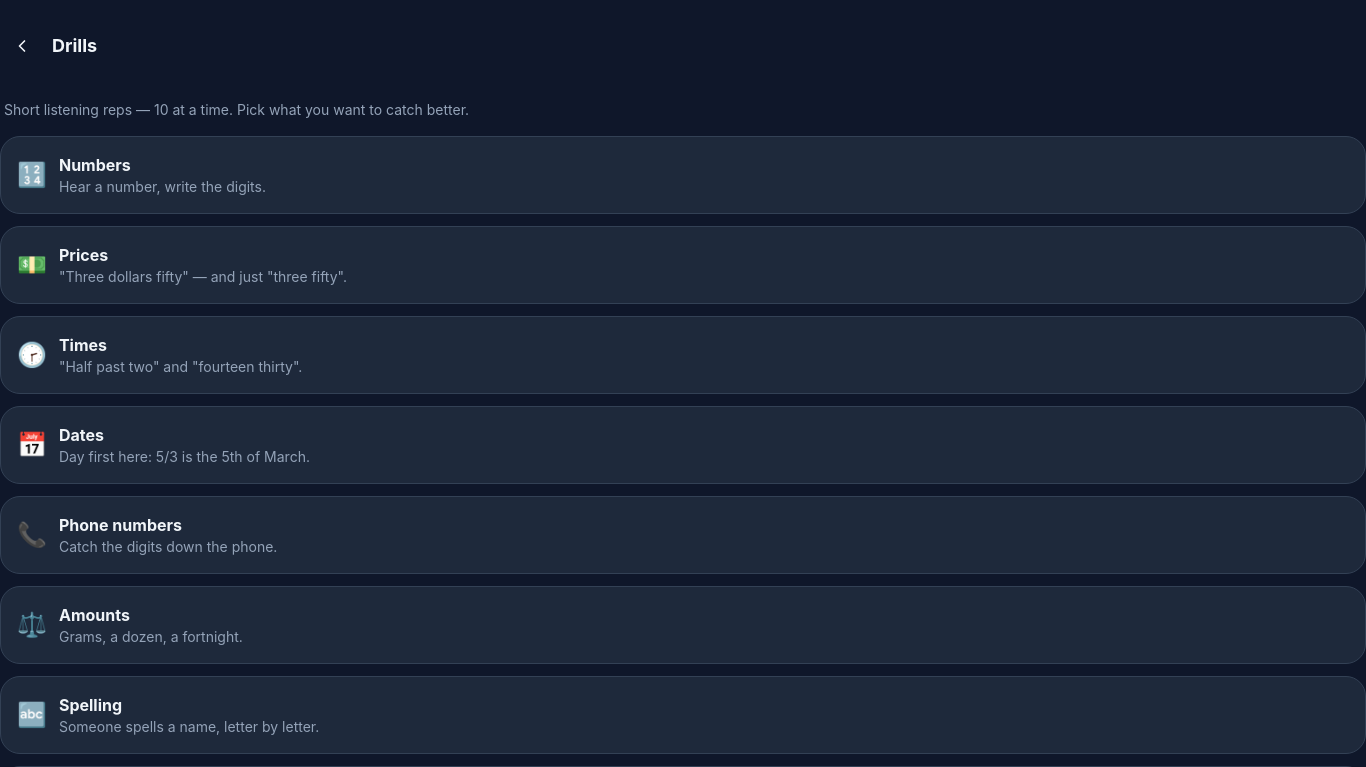
Drills runner › counts a right answer, even typed with a Brazilian comma
Step 1. Click the button with test id "drill-price" → coordinates (84, 255), box x1=0 y1=226 x2=1365 y2=304
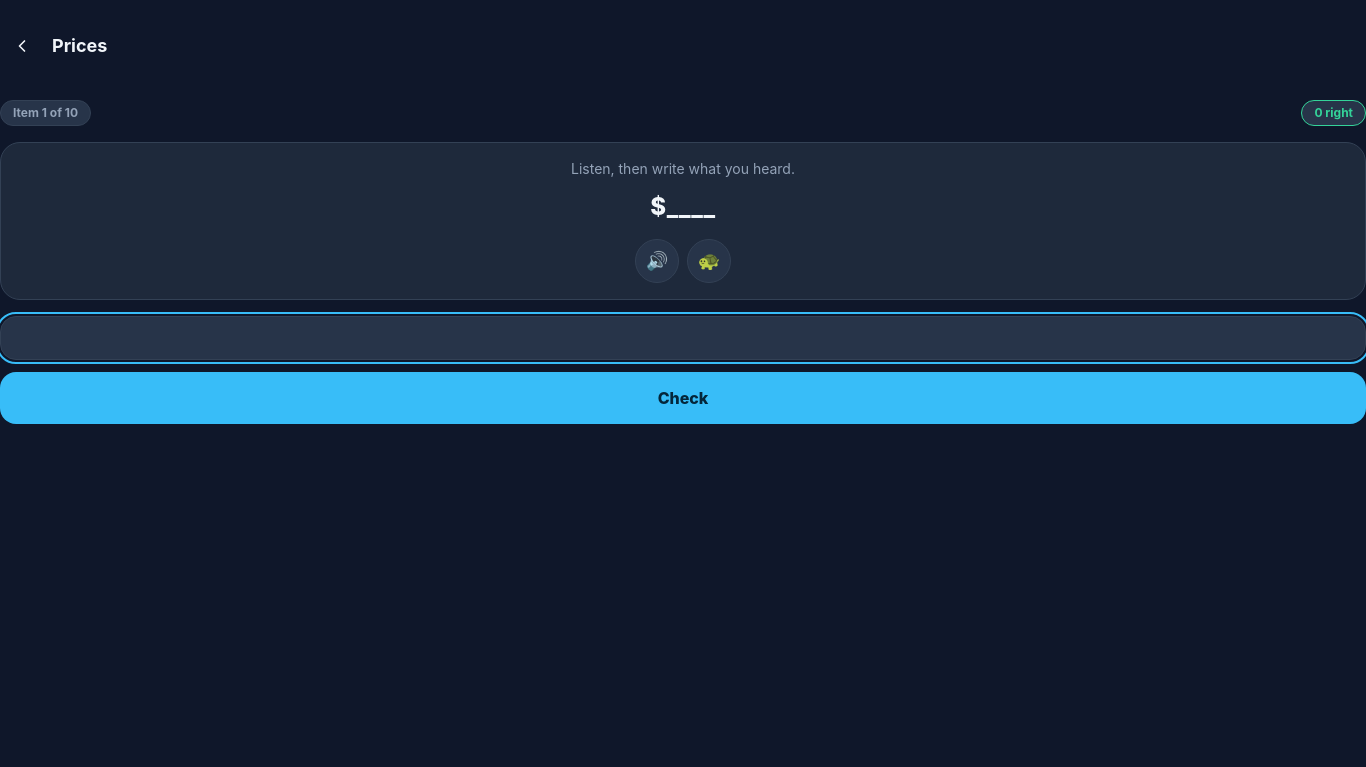
Result: the text "Item 1 of 10" is shown at x1=0 y1=100 x2=91 y2=126
Step 2. Type "1,00" into the field named "type what you heard" → coordinates (683, 338), box x1=0 y1=316 x2=1365 y2=360
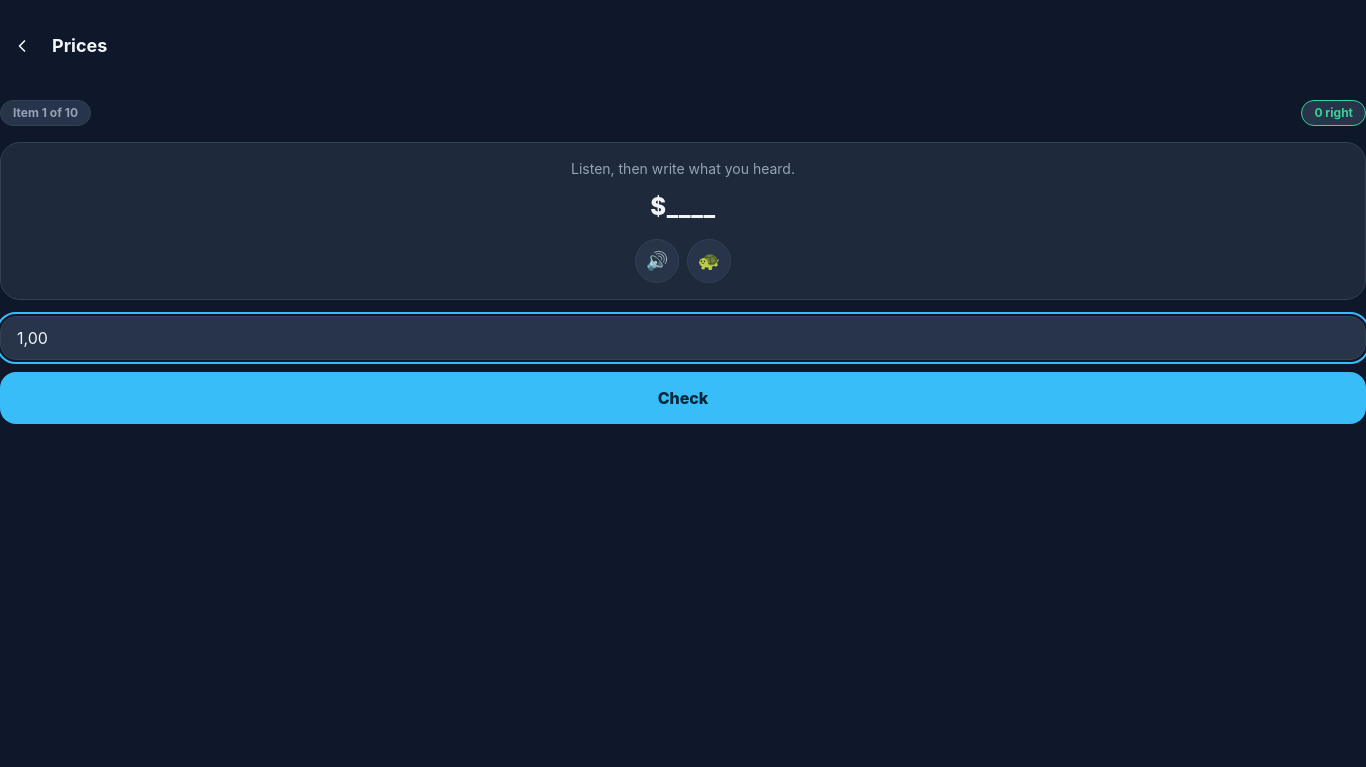
Step 3. Click the button "Check" → coordinates (683, 398), box x1=0 y1=372 x2=1365 y2=424
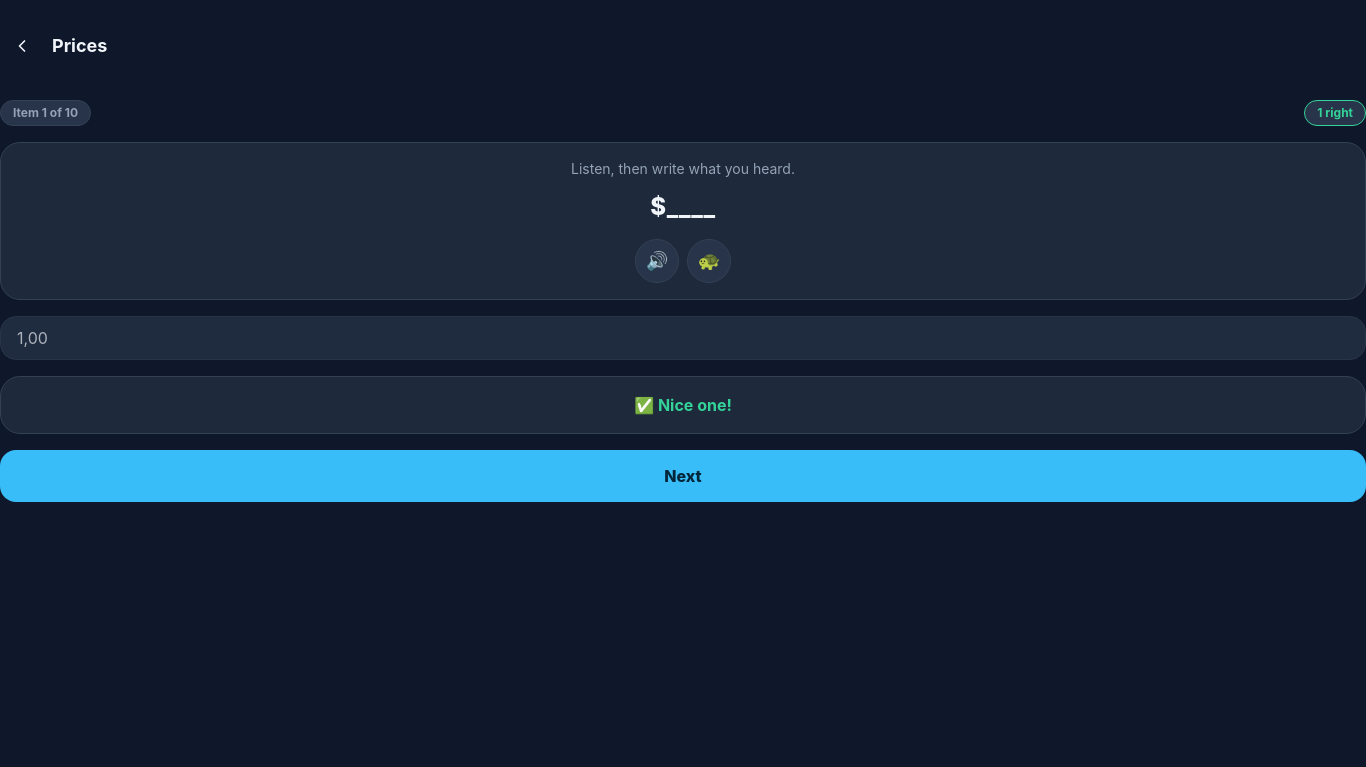
Result: the text "✅ Nice one!" is shown at x1=634 y1=395 x2=732 y2=415
Result: the text "1 right" is shown at x1=1304 y1=100 x2=1365 y2=126
